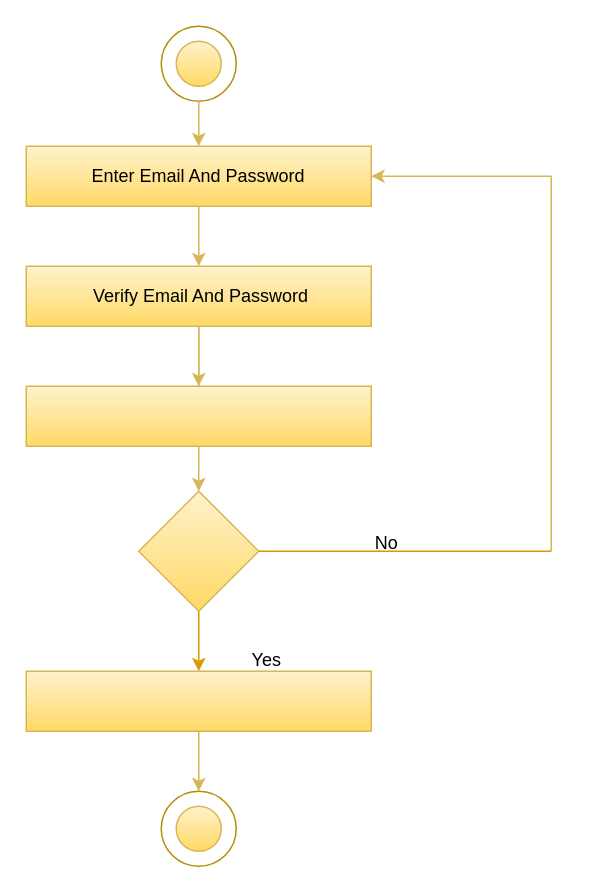
This 590x893 diagram has some shape labels left out. The shapes that lost their labels are listed below. From the top down, each one's box as (x1, y1, x2, y2) in pixels, then its label:
(25, 385, 371, 446): Submit Email And Password
(25, 670, 371, 731): Redirect To User Home Screen
